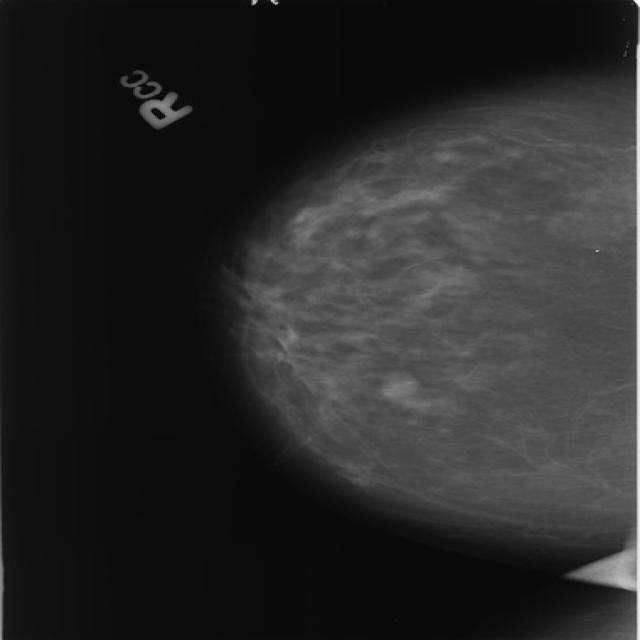tumour: (377, 372, 418, 398)
